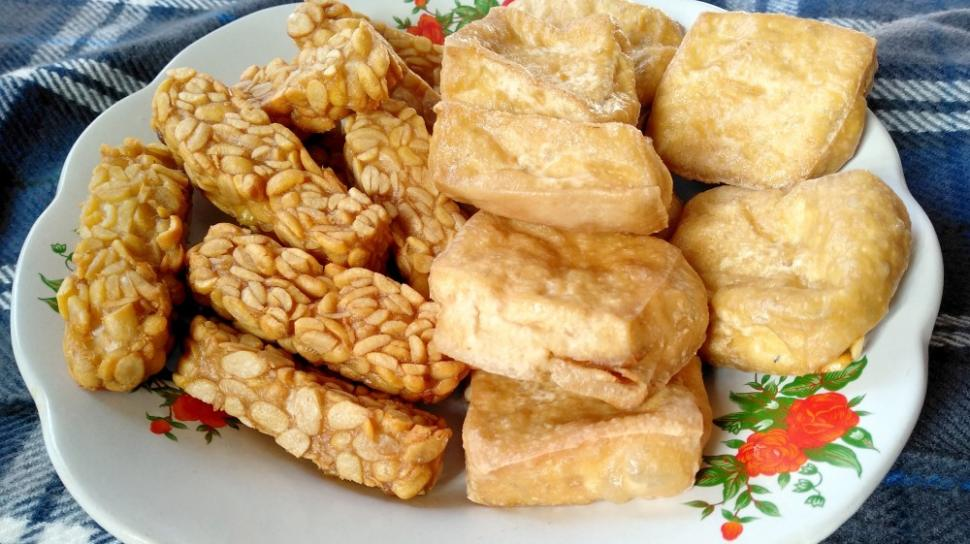Tempe: (123, 38, 357, 247), (27, 143, 192, 394), (186, 329, 424, 495), (208, 217, 431, 383)
